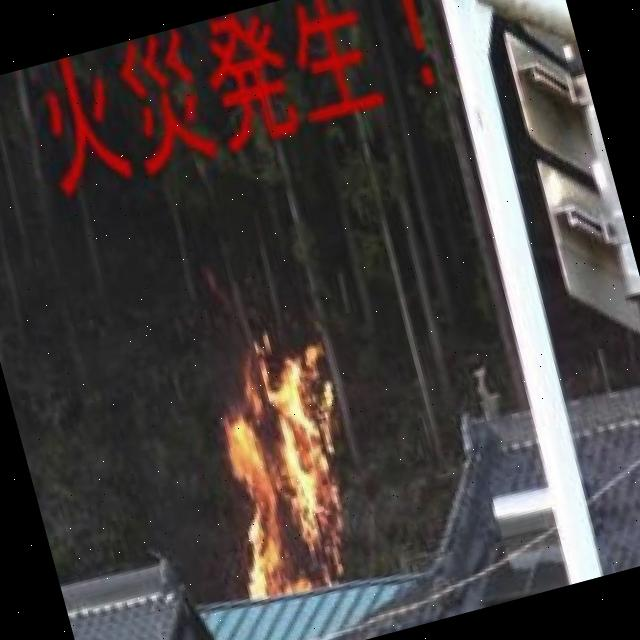fire: (184, 324, 406, 610)
